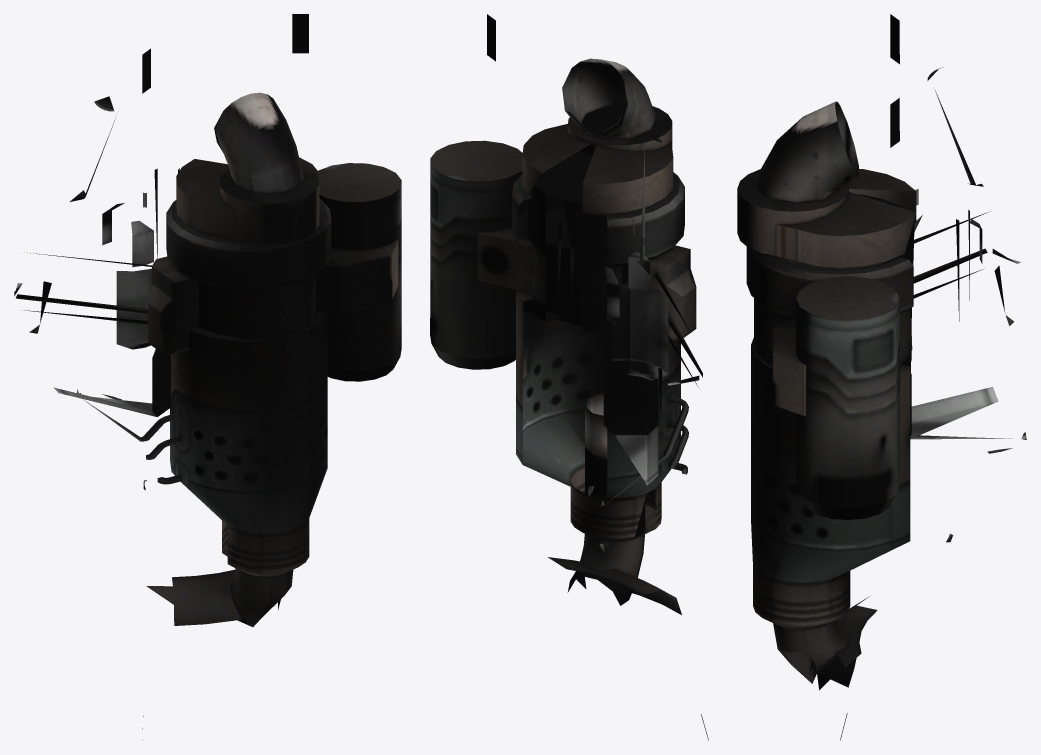
Rendered from Pumps.fbx.
3 renders of one model, left to right at view 1: azimuth 30°, elevation 25°; view 2: azimuth 150°, elevation 25°; view 3: azimuth 270°, elevation 25°, orthographic. The views are drawn at different scales.
Visible parts, largest first — view 1: Rocket_Engine.003; view 2: Rocket_Engine.003; view 3: Rocket_Engine.003.
Boxes of the visible parts, bbox=[...] form: Rocket_Engine.003: bbox=[14, 14, 401, 740]; Rocket_Engine.003: bbox=[430, 14, 708, 740]; Rocket_Engine.003: bbox=[737, 14, 1026, 740].
Size of the model in its own units: 128 by 256 by 90.57.
